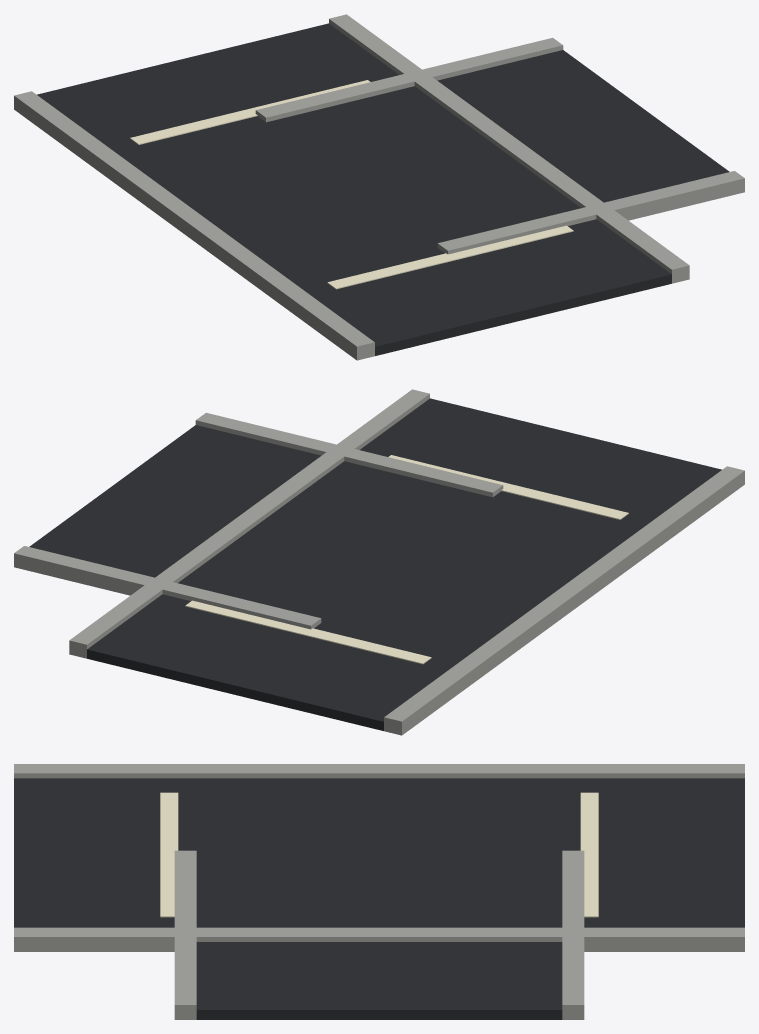
File: road_asphalt_tee.glb
3 views of the same model, one above another, from view 1: azimuth 30°, elevation 25°; view 2: azimuth 150°, elevation 25°; view 3: azimuth 270°, elevation 25° (orthographic). The views are drawn at different scales.
Parts seen in each view (by area): view 1: body; view 2: body; view 3: body.
Boxes of the visible parts, <box> form: body: <box>14,14,744,360</box>; body: <box>14,389,744,735</box>; body: <box>14,764,744,1019</box>.
Size of what is drawn, in the model's own units: 6.24 by 0.18 by 8.
